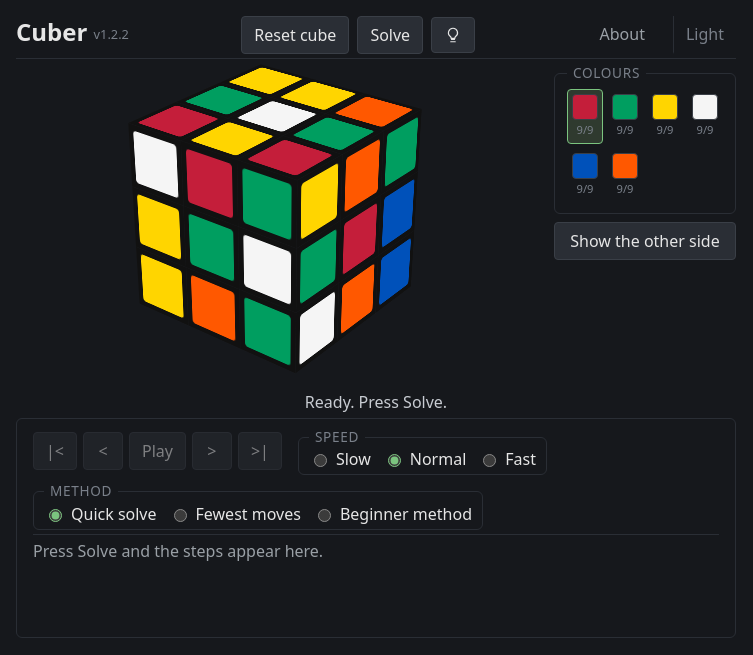
Test: painting the stickers › paints a colour at nine over a filled sticker, and counts it
What coordinates should you click on to do the following:
click the button named "red"
I would click on:
 (585, 117)
Its box is [567, 89, 603, 144].
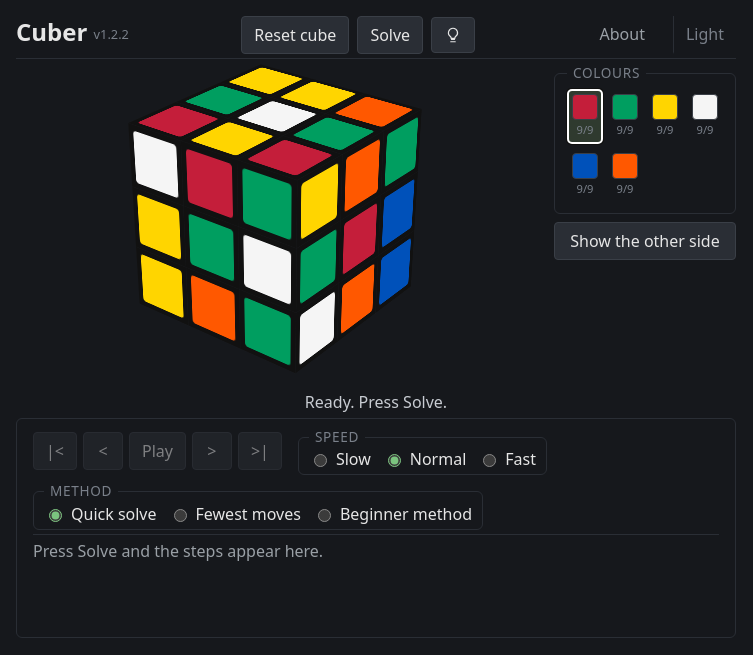
What coordinates should you click on to do the following:
click the button named "the right face, row 2, column 3, blue"
I would click on:
 (398, 213)
Its box is [378, 171, 418, 255].
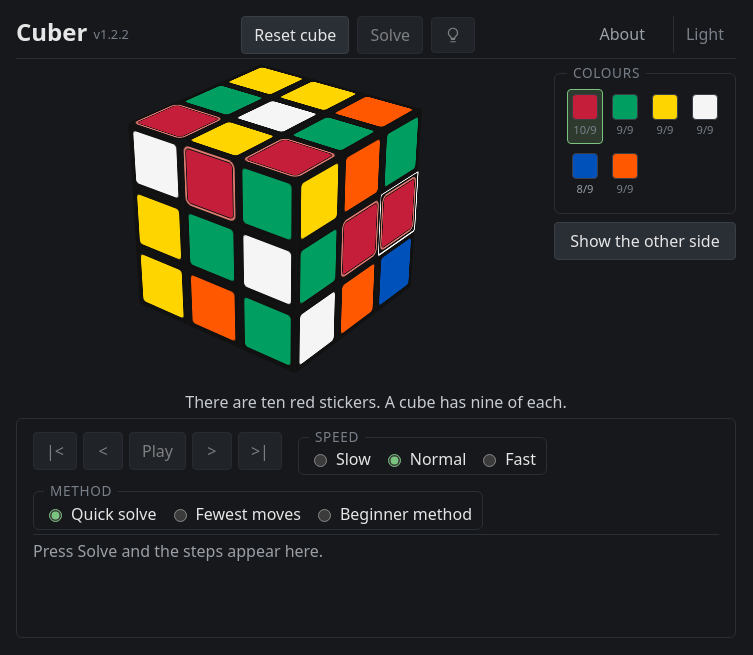
expect the message reads "There are ten red stickers. A cube has nine of each.": met, box [185, 391, 567, 413]
